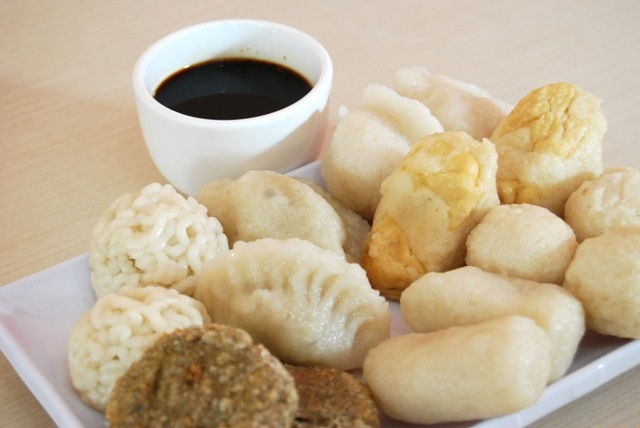pempek: (324, 62, 640, 423), (68, 174, 366, 428)
